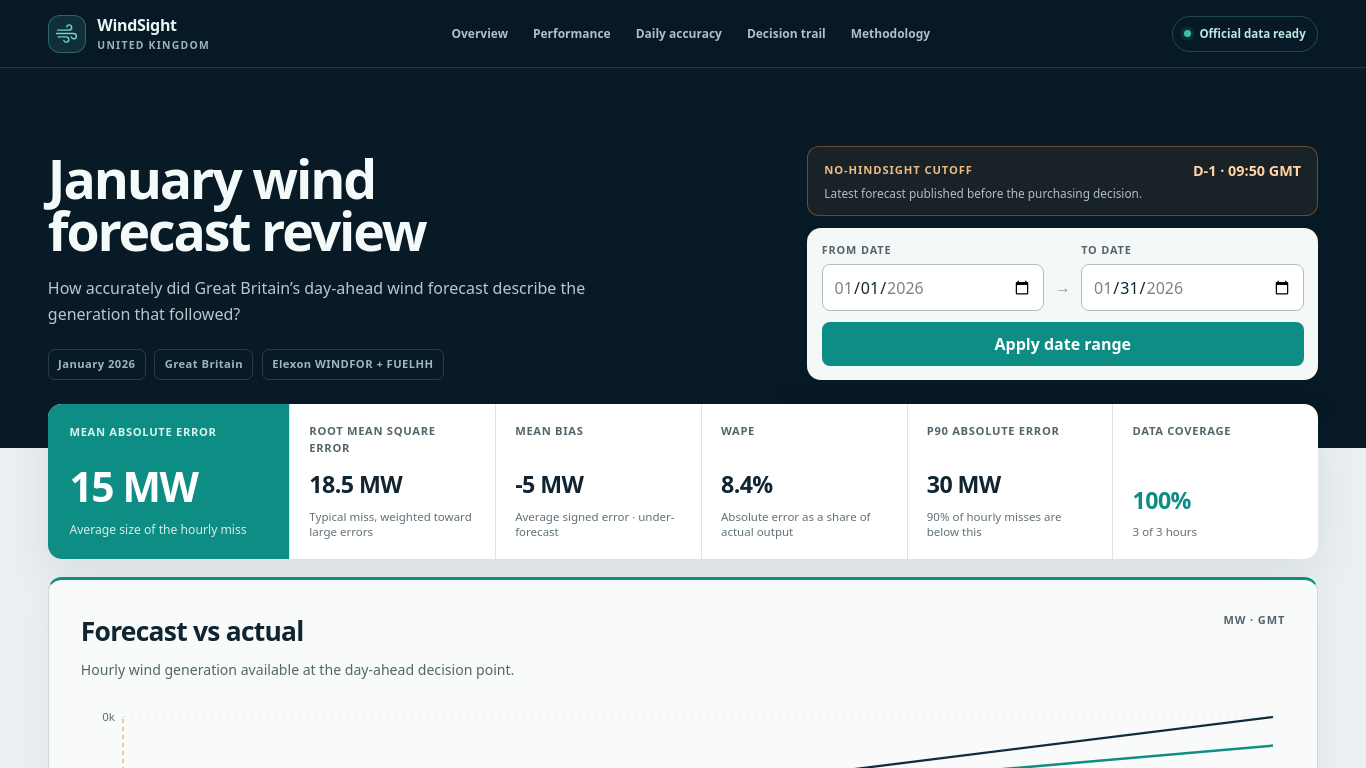
Scenario: WindSight dashboard › explains an invalid draft date range
This screenshot has width=1366, height=768.
Expected: the text "15 MW" is shown, [69,458,198,514]
Type "2026-01-02" into the date field labelled "From date".
click(933, 288); type("2026-01-02")  # box [822,264,1044,311]
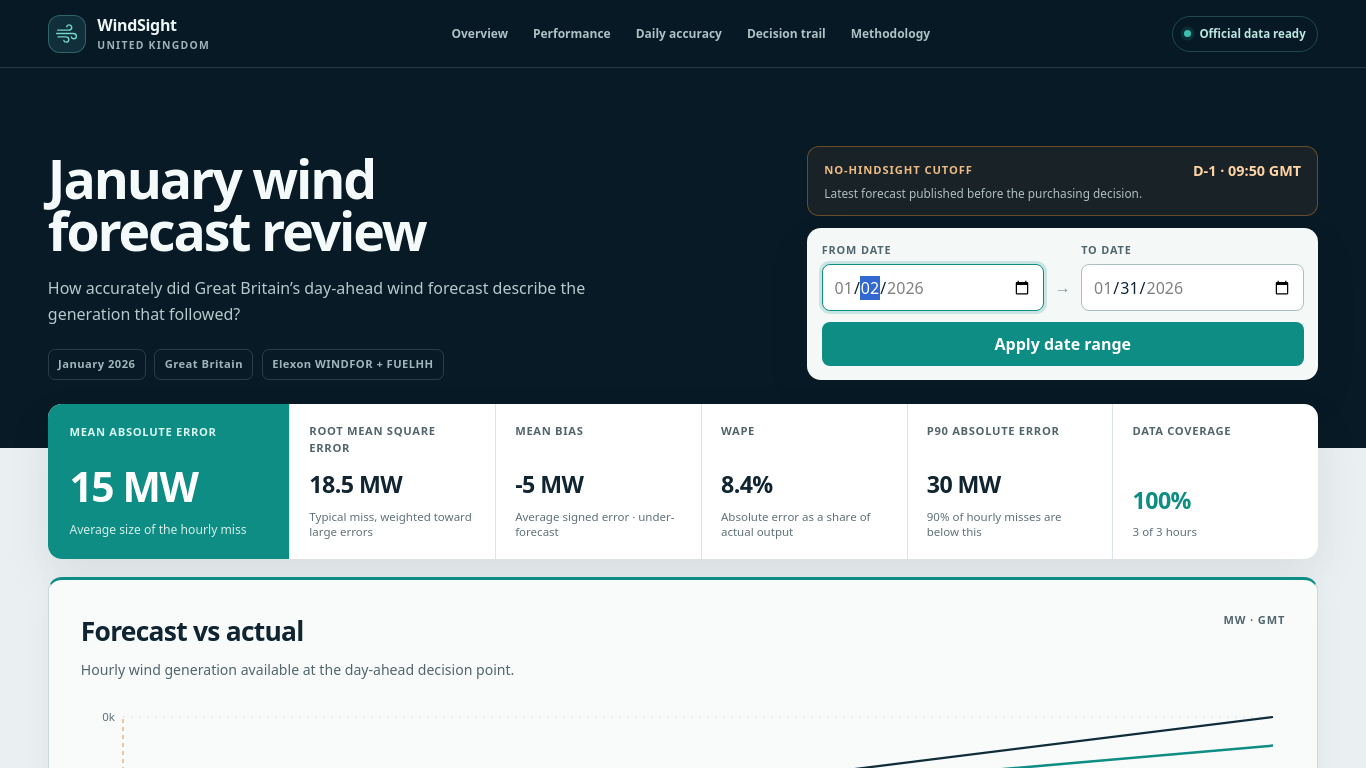
Type "2026-01-01" into the date field labelled "To date".
click(1192, 288); type("2026-01-01")  # box [1081,264,1304,311]
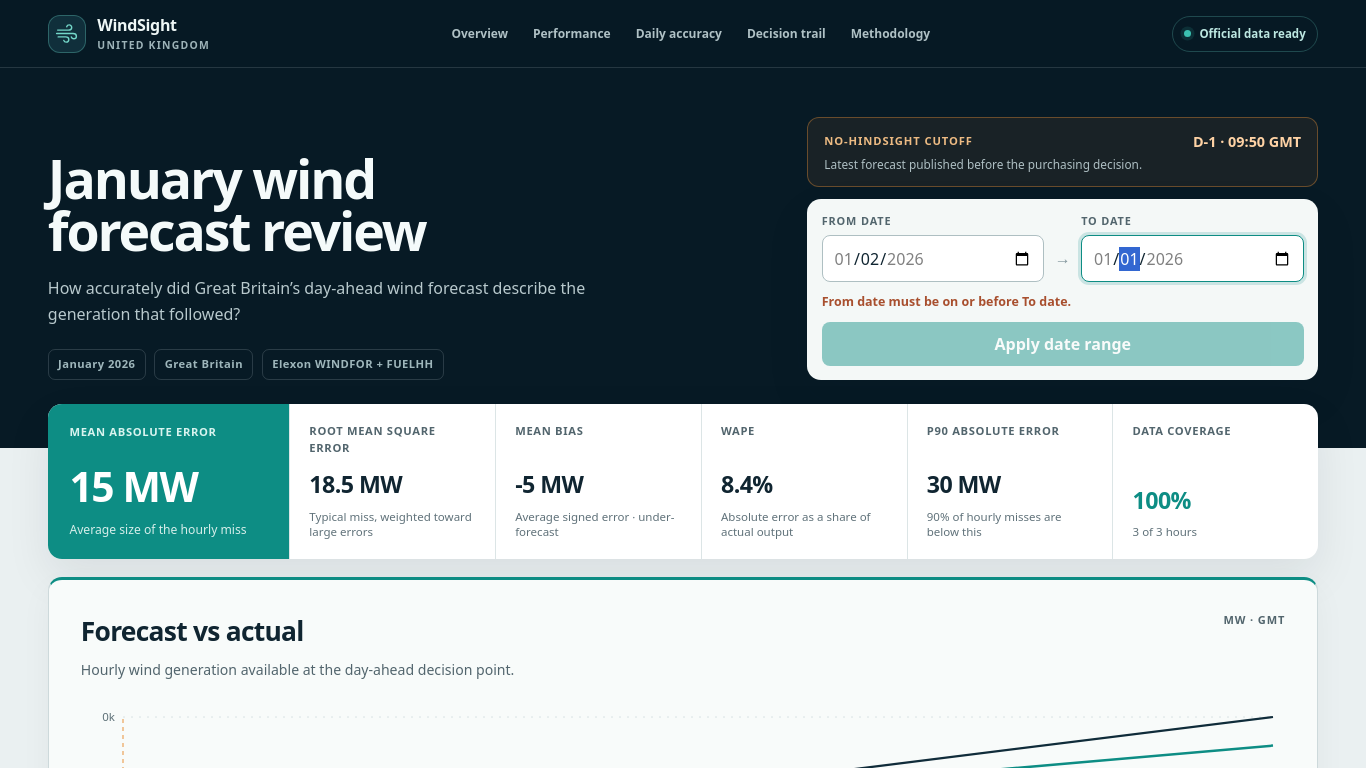
Result: the button "Apply date range" is disabled at [822,322,1304,366]
Result: the text "From date must be on or before To date." is shown at [822,292,1071,310]
